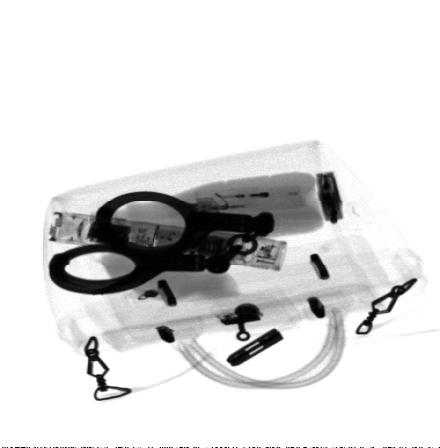Baton: (49, 211, 289, 272)
HandCuffs: (49, 191, 278, 295)
Lighter: (194, 183, 304, 210)
